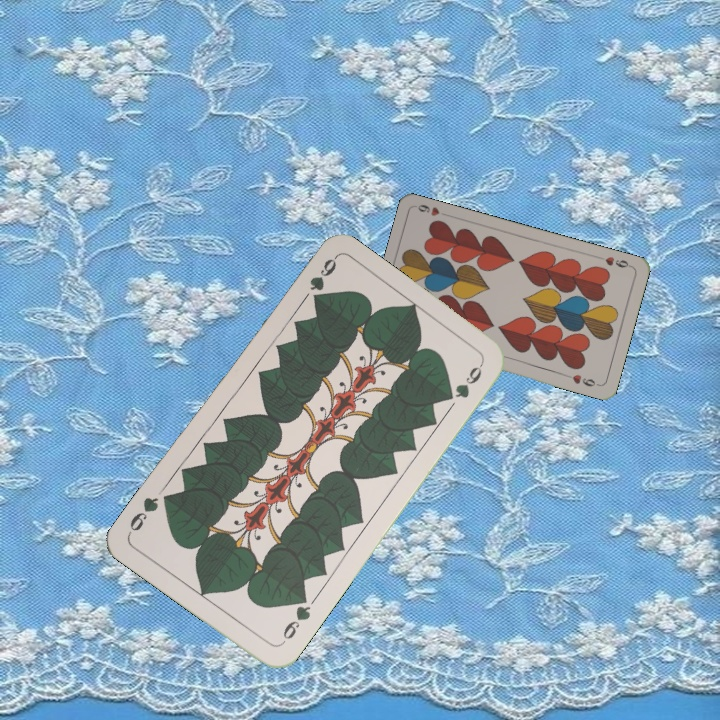G9: (277, 590, 313, 647), (306, 254, 339, 293)
H9: (594, 252, 634, 270)
